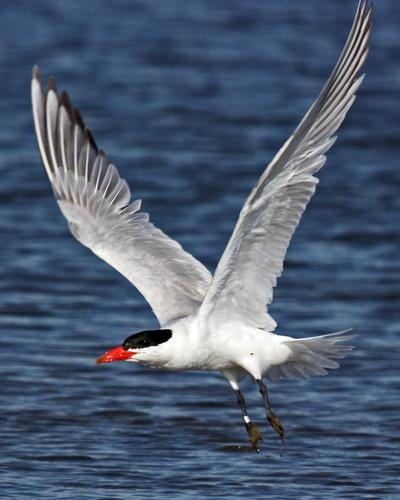bird: (26, 1, 379, 445)
